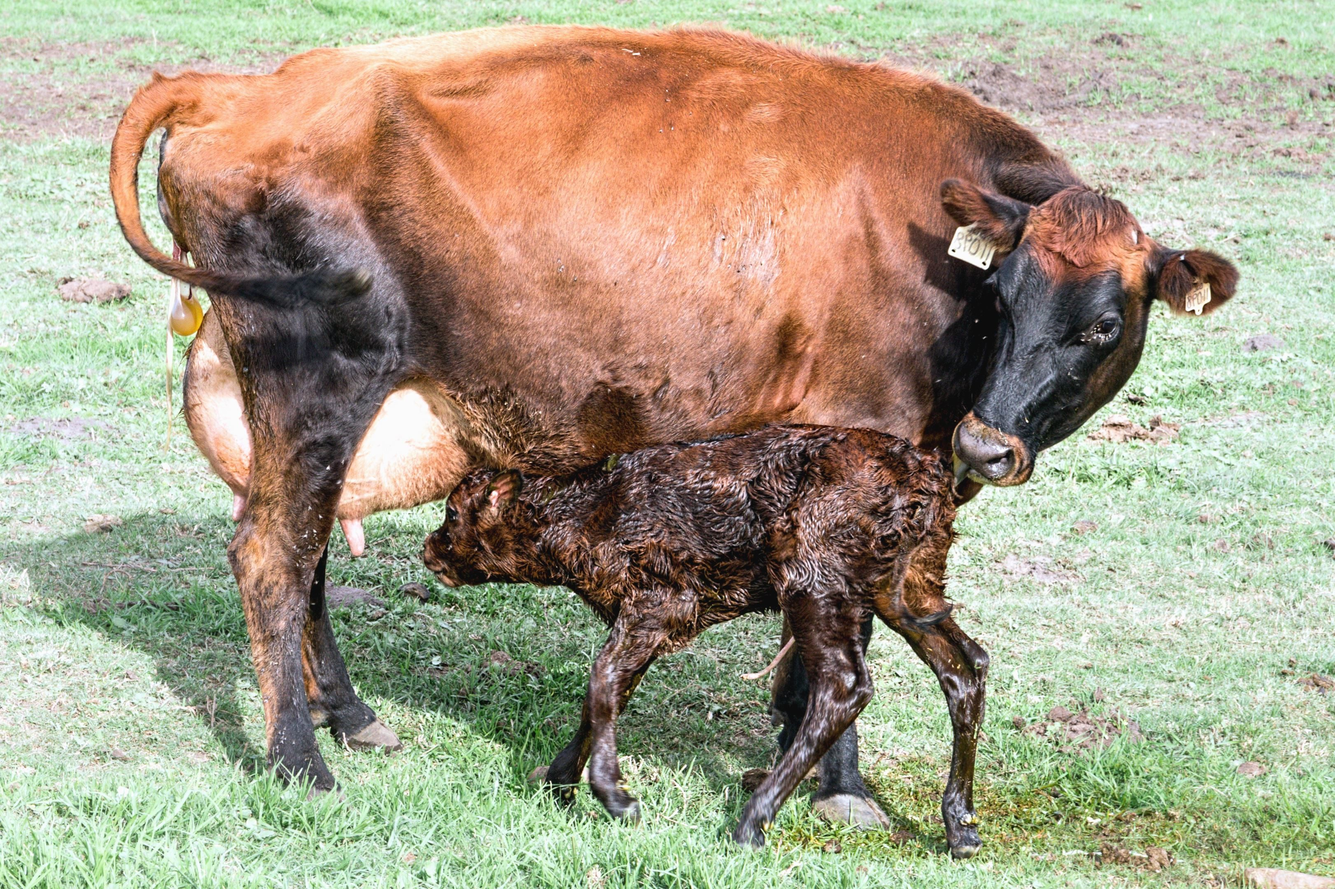bovino: (108, 34, 1239, 496), (423, 430, 987, 850)
